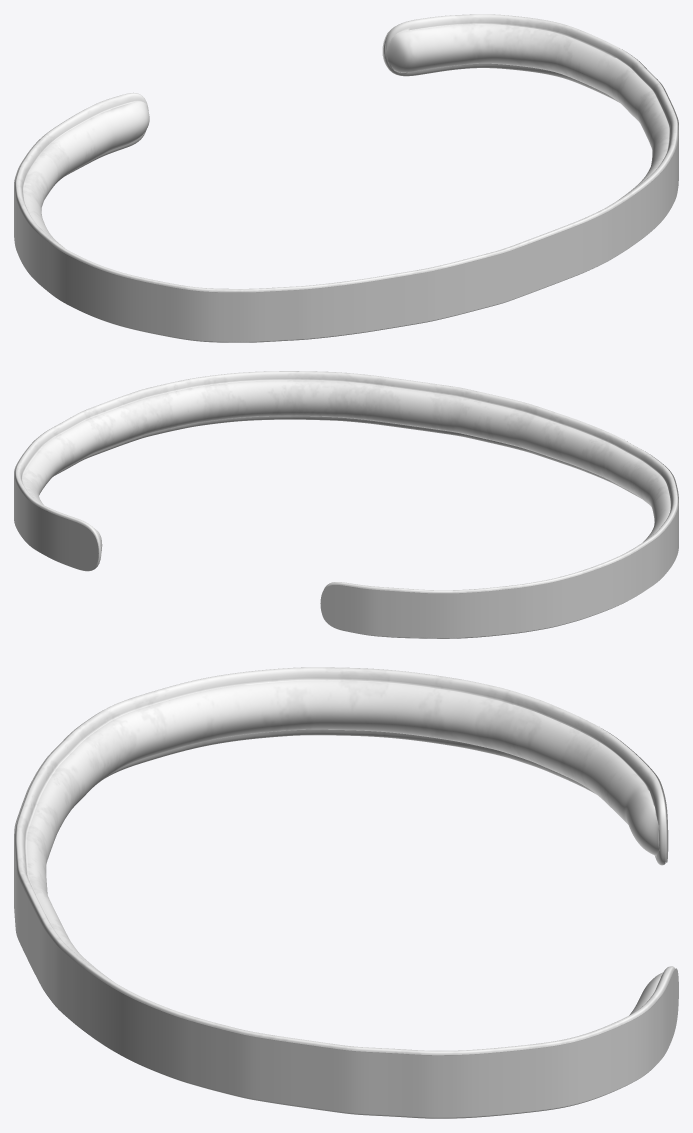
Rendered from bangle-thick-silver.glb.
3 views of the same model, one above another, from view 1: azimuth 30°, elevation 25°; view 2: azimuth 150°, elevation 25°; view 3: azimuth 270°, elevation 25° (orthographic). The views are drawn at different scales.
Parts seen in each view (by area): view 1: omote1.002, bangle1-1; view 2: bangle1-1, omote1.002; view 3: bangle1-1, omote1.002.
Part boxes in pixels (box(x1,y1,x2,y2)): omote1.002: box(14, 26, 678, 342); bangle1-1: box(14, 14, 678, 342); bangle1-1: box(14, 371, 678, 638); omote1.002: box(14, 417, 678, 638); bangle1-1: box(14, 667, 675, 1118); omote1.002: box(14, 710, 678, 1117).
Size of the model in its own units: 2.82 by 0.2351 by 2.04.
2 materials, 2 textured.
